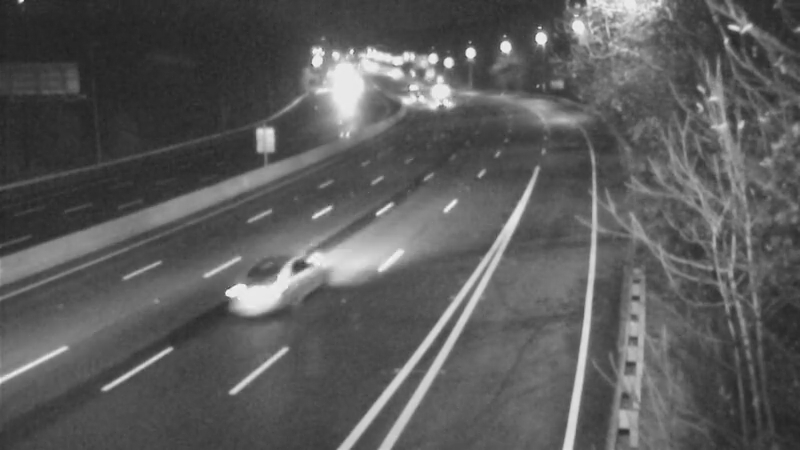vehicle: (212, 252, 292, 332), (386, 59, 436, 109), (376, 67, 426, 117), (414, 80, 464, 130)
